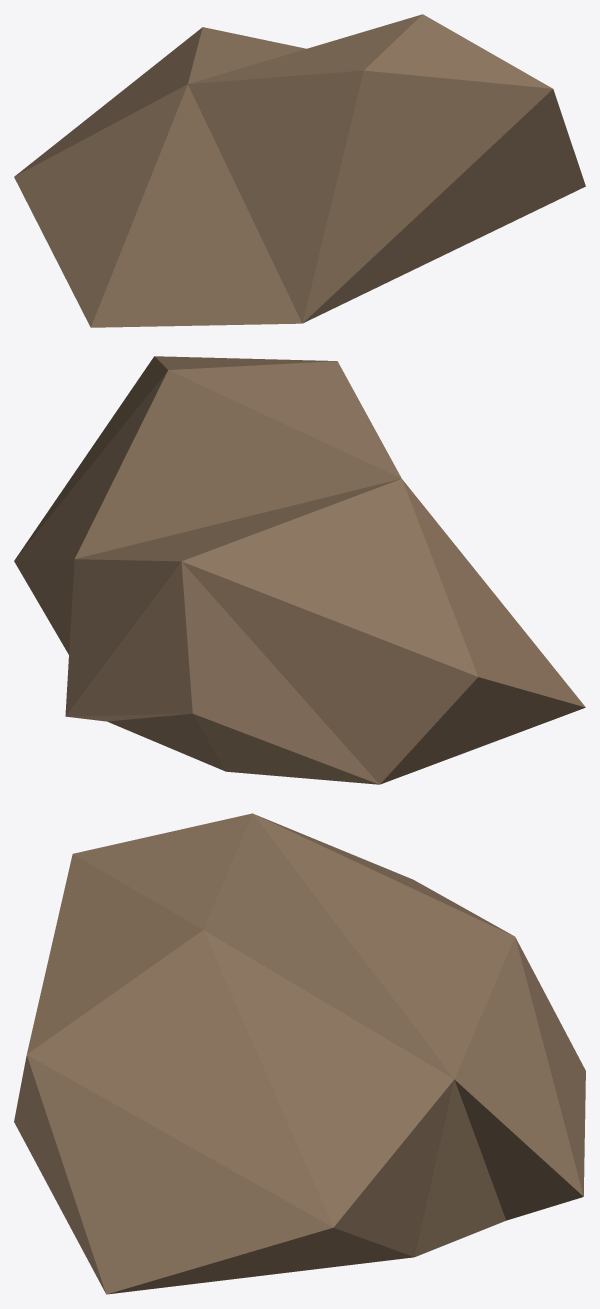
Rendered from stone_02.fbx.
The picture shows the model from 3 angles, top to bottom: view 1: azimuth 30°, elevation 25°; view 2: azimuth 150°, elevation 25°; view 3: azimuth 270°, elevation 25°; orthographic projection. The views are drawn at different scales.
Visible parts, largest first — view 1: stone_02; view 2: stone_02; view 3: stone_02.
Part boxes in pixels (x1=…): stone_02: x1=14, y1=14, x2=585, y2=327; stone_02: x1=14, y1=356, x2=585, y2=784; stone_02: x1=14, y1=813, x2=585, y2=1294.
Size of the model in its own units: 9.51 by 4.17 by 6.61.
Materials: 1 (1 with a texture image).
